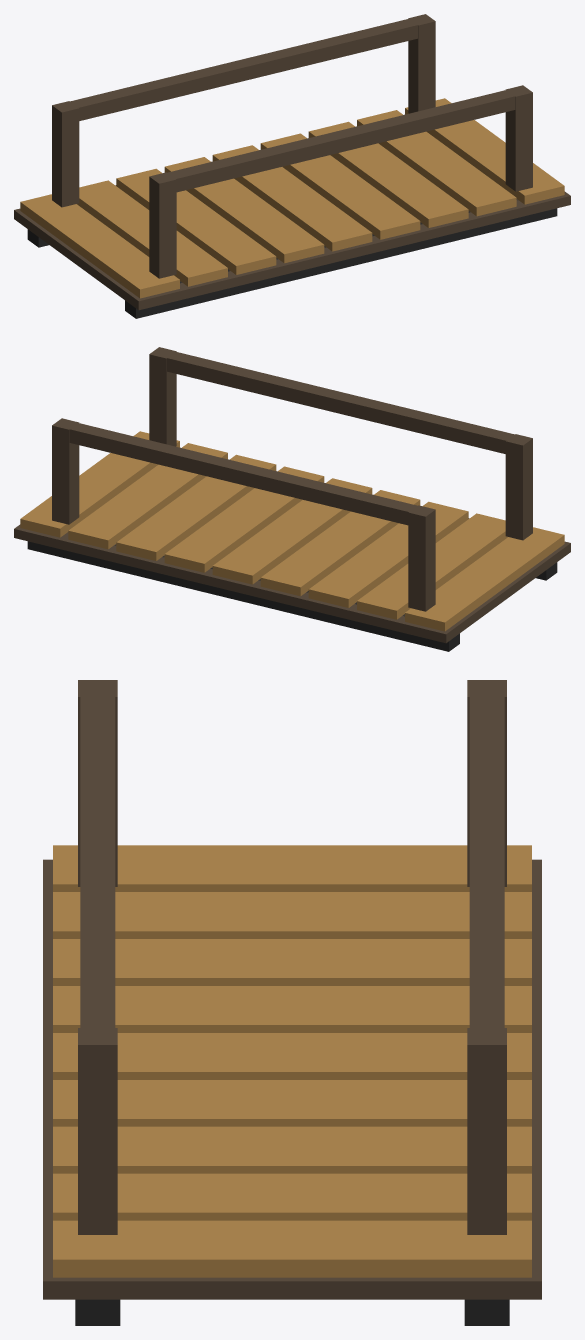
File: bridge.glb
3 views of the same model, one above another, from view 1: azimuth 30°, elevation 25°; view 2: azimuth 150°, elevation 25°; view 3: azimuth 270°, elevation 25° (orthographic). The views are drawn at different scales.
Visible parts, largest first — view 1: P25D_Rail+0.78, P25D_Rail-0.78, P25D_BridgeDeckBeam, P25D_DeckPlank_00, P25D_DeckPlank_04, P25D_DeckPlank_05, P25D_DeckPlank_06, P25D_DeckPlank_03, P25D_DeckPlank_07, P25D_DeckPlank_02, P25D_DeckPlank_01, P25D_DeckPlank_08 (+5 smaller); view 2: P25D_Rail-0.78, P25D_Rail+0.78, P25D_BridgeDeckBeam, P25D_DeckPlank_00, P25D_DeckPlank_04, P25D_DeckPlank_05, P25D_DeckPlank_06, P25D_DeckPlank_03, P25D_DeckPlank_07, P25D_DeckPlank_02, P25D_DeckPlank_01, P25D_DeckPlank_08 (+5 smaller); view 3: P25D_DeckPlank_08, P25D_BridgeDeckBeam, P25D_DeckPlank_01, P25D_DeckPlank_02, P25D_DeckPlank_03, P25D_DeckPlank_06, P25D_DeckPlank_07, P25D_DeckPlank_00, P25D_DeckPlank_04, P25D_DeckPlank_05, P25D_Rail-0.78, P25D_Rail+0.78 (+6 smaller).
Boxes of the visible parts, left/top/right/bottom form: P25D_Rail+0.78: left=59, top=16, right=428, bottom=120; P25D_Rail-0.78: left=164, top=87, right=525, bottom=192; P25D_BridgeDeckBeam: left=14, top=185, right=570, bottom=310; P25D_DeckPlank_00: left=20, top=194, right=179, bottom=298; P25D_DeckPlank_04: left=212, top=145, right=372, bottom=251; P25D_DeckPlank_05: left=260, top=133, right=420, bottom=239; P25D_DeckPlank_06: left=308, top=121, right=468, bottom=227; P25D_DeckPlank_03: left=164, top=157, right=324, bottom=263; P25D_DeckPlank_07: left=357, top=110, right=516, bottom=216; P25D_DeckPlank_02: left=116, top=168, right=276, bottom=274; P25D_DeckPlank_01: left=77, top=180, right=227, bottom=286; P25D_DeckPlank_08: left=405, top=98, right=564, bottom=204; P25D_Rail-0.78: left=157, top=349, right=525, bottom=453; P25D_Rail+0.78: left=59, top=420, right=426, bottom=525; P25D_BridgeDeckBeam: left=14, top=518, right=570, bottom=643; P25D_DeckPlank_00: left=405, top=527, right=564, bottom=631; P25D_DeckPlank_04: left=212, top=478, right=372, bottom=584; P25D_DeckPlank_05: left=164, top=466, right=324, bottom=572; P25D_DeckPlank_06: left=116, top=454, right=276, bottom=560; P25D_DeckPlank_03: left=260, top=490, right=420, bottom=596; P25D_DeckPlank_07: left=68, top=443, right=227, bottom=549; P25D_DeckPlank_02: left=308, top=501, right=468, bottom=607; P25D_DeckPlank_01: left=357, top=513, right=507, bottom=619; P25D_DeckPlank_08: left=20, top=431, right=179, bottom=537; P25D_DeckPlank_08: left=53, top=1220, right=531, bottom=1277; P25D_BridgeDeckBeam: left=43, top=859, right=541, bottom=1299; P25D_DeckPlank_01: left=53, top=892, right=531, bottom=938; P25D_DeckPlank_02: left=53, top=939, right=531, bottom=985; P25D_DeckPlank_03: left=53, top=986, right=531, bottom=1032; P25D_DeckPlank_06: left=53, top=1126, right=531, bottom=1173; P25D_DeckPlank_07: left=53, top=1173, right=531, bottom=1220; P25D_DeckPlank_00: left=53, top=845, right=531, bottom=891; P25D_DeckPlank_04: left=53, top=1033, right=531, bottom=1079; P25D_DeckPlank_05: left=53, top=1080, right=531, bottom=1126; P25D_Rail-0.78: left=80, top=686, right=115, bottom=1038; P25D_Rail+0.78: left=469, top=686, right=504, bottom=1038.
Size of the model in its own units: 4 by 1.14 by 2.
